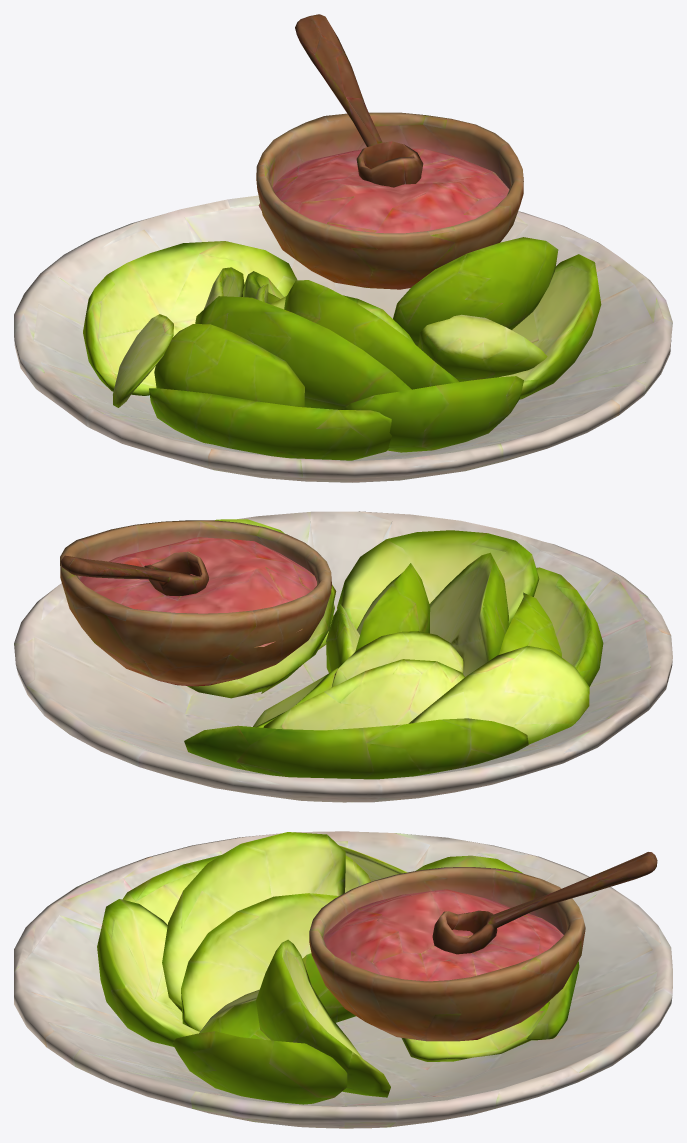
Rendered from green-mango.glb.
The picture shows the model from 3 angles, top to bottom: view 1: azimuth 30°, elevation 25°; view 2: azimuth 150°, elevation 25°; view 3: azimuth 270°, elevation 25°; orthographic projection.
Parts seen in each view (by area): view 1: geometry_0; view 2: geometry_0; view 3: geometry_0.
Part boxes in pixels (box(x1,y1,x2,y2)): geometry_0: box(14, 14, 672, 482); geometry_0: box(14, 511, 672, 802); geometry_0: box(14, 831, 672, 1128).
Bounding box in the file's own units: 1 × 0.4527 × 1.
1 material, 1 textured.
